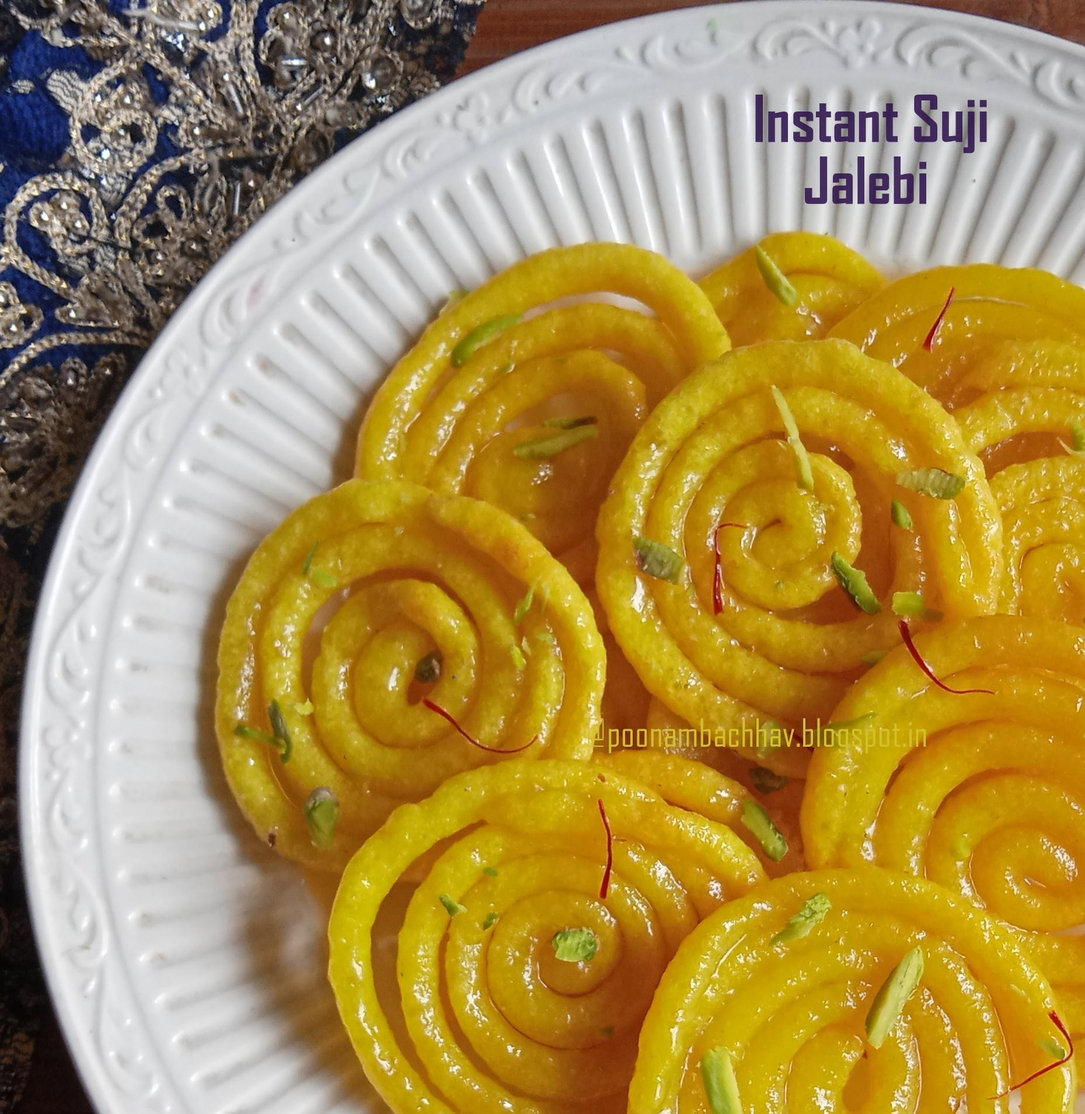jalebi: (204, 250, 1085, 1114)
